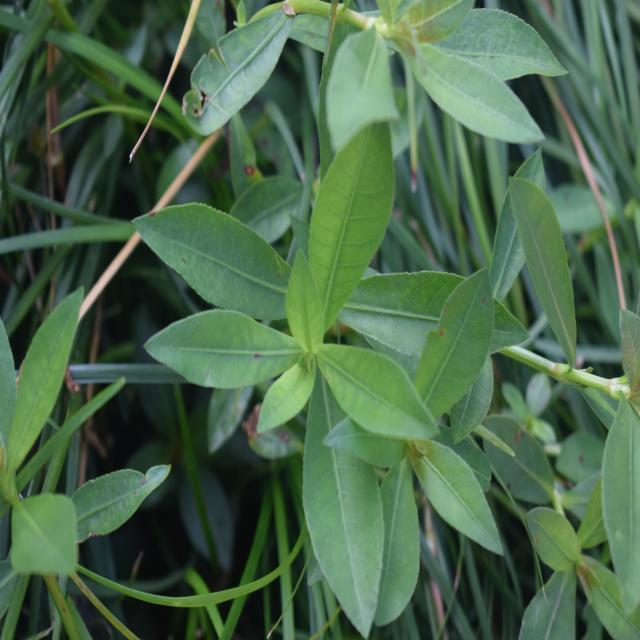Alligatorweed: (153, 111, 522, 580)
